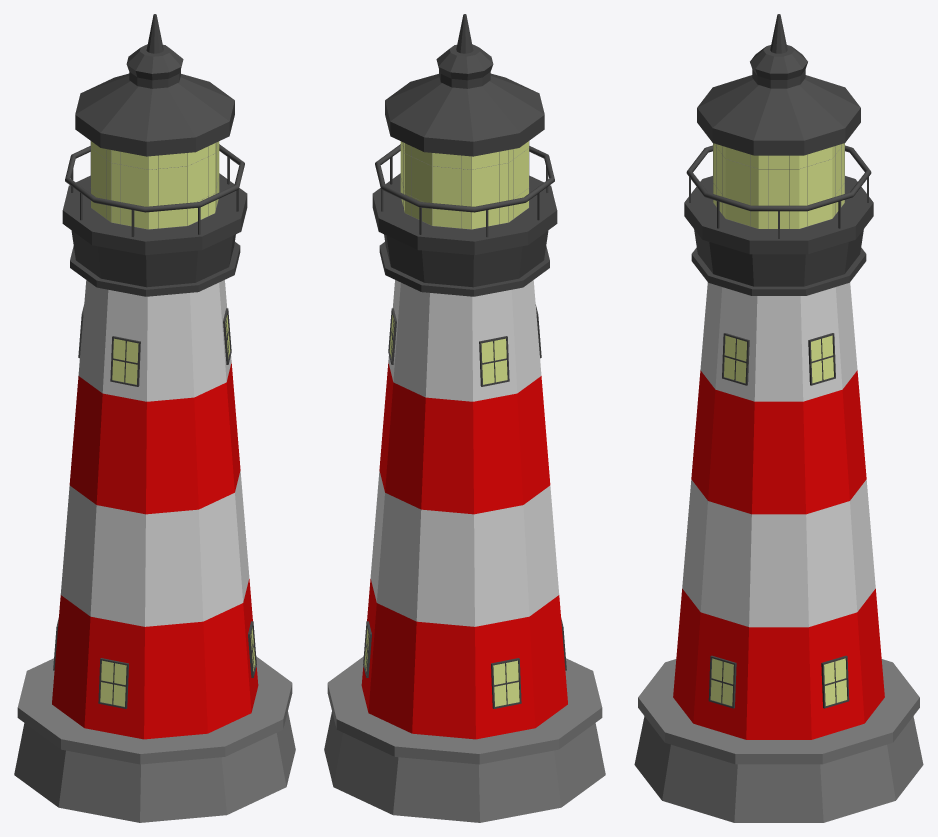
File: lighthouse.glb
3 renders of one model, left to right at view 1: azimuth 30°, elevation 25°; view 2: azimuth 150°, elevation 25°; view 3: azimuth 270°, elevation 25°, orthographic.
Visible parts, largest first — view 1: Circle, Circle.002, Plane.001, Plane, Circle.003; view 2: Circle, Circle.002, Plane.001, Plane, Circle.003; view 3: Circle, Plane.001, Plane, Circle.002, Circle.003.
Part boxes in pixels (x1,y1,x2,y2): Circle: [14, 14, 295, 822]; Circle.002: [65, 144, 244, 236]; Plane.001: [53, 617, 256, 708]; Plane: [78, 304, 231, 386]; Circle.003: [90, 141, 218, 229]; Circle: [324, 14, 605, 822]; Circle.002: [375, 144, 554, 237]; Plane.001: [363, 617, 566, 708]; Plane: [388, 304, 541, 386]; Circle.003: [401, 141, 529, 229]; Circle: [634, 14, 923, 822]; Plane.001: [708, 655, 849, 708]; Plane: [722, 333, 835, 385]; Circle.002: [686, 145, 871, 238]; Circle.003: [713, 143, 844, 228].
Bounding box in the file's own units: 4.26 × 12.83 × 4.48.
Materials: 1 (1 with a texture image).
